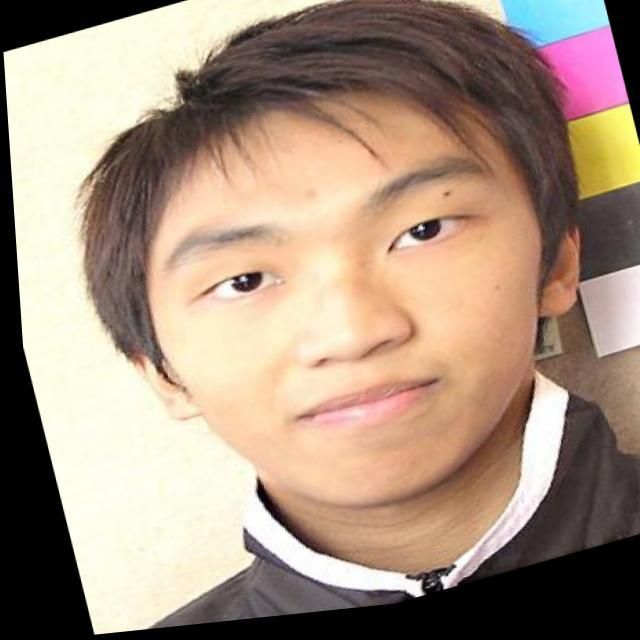Nonhelmet: (68, 0, 592, 513)
